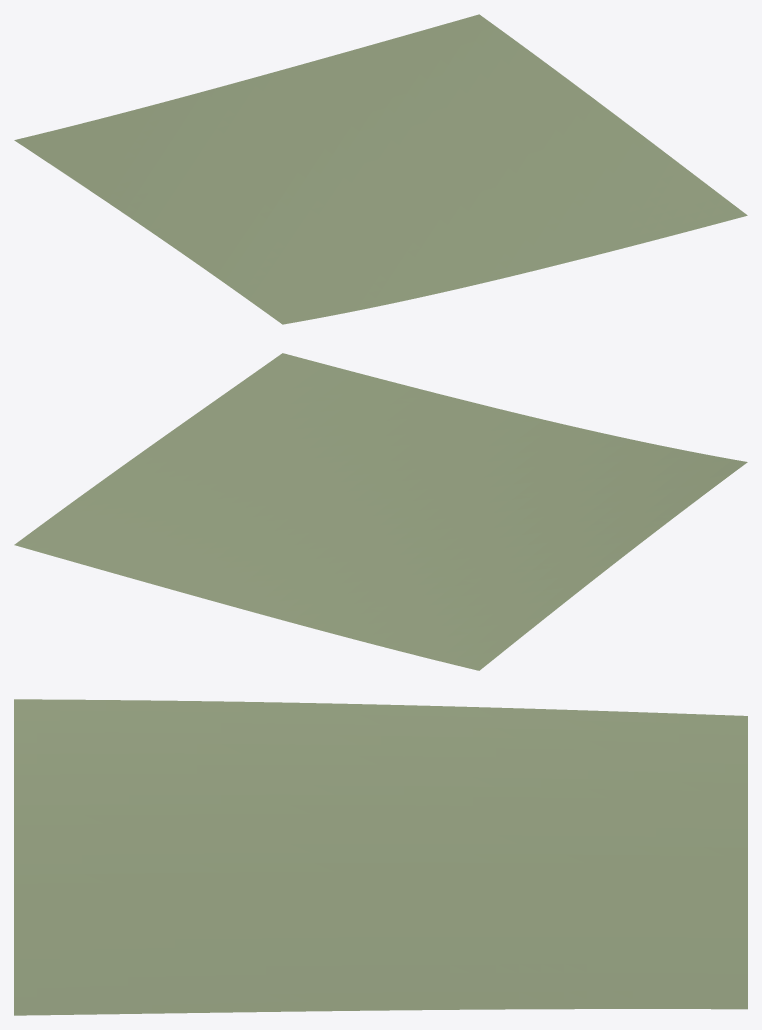
The model's file is expanse-19-16.glb.
3 views of the same model, one above another, from view 1: azimuth 30°, elevation 25°; view 2: azimuth 150°, elevation 25°; view 3: azimuth 270°, elevation 25° (orthographic). The views are drawn at different scales.
Visible parts, largest first — view 1: expanse-19-16; view 2: expanse-19-16; view 3: expanse-19-16.
Part boxes in pixels (x1,y1,x2,y2): expanse-19-16: [14, 14, 747, 324]; expanse-19-16: [14, 353, 747, 670]; expanse-19-16: [14, 699, 747, 1015].
Bounding box in the file's own units: 256 × 6.62 × 256.
